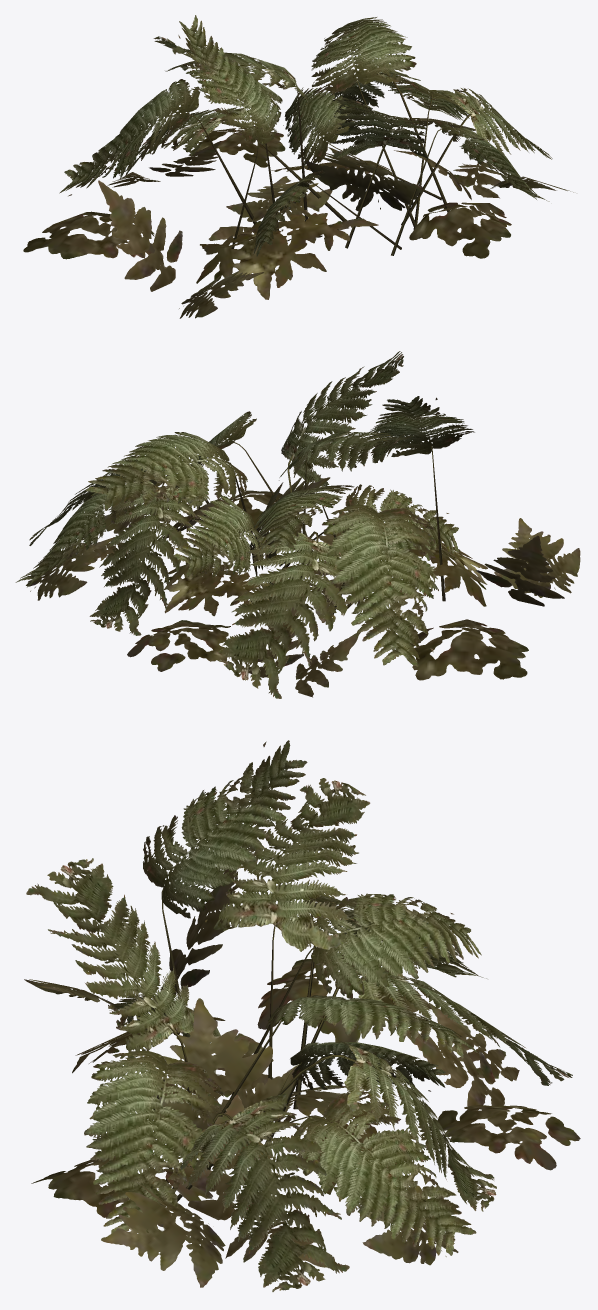
The model's file is fern01.glb.
3 renders of one model, top to bottom at view 1: azimuth 30°, elevation 25°; view 2: azimuth 150°, elevation 25°; view 3: azimuth 270°, elevation 25°, orthographic. The views are drawn at different scales.
Parts seen in each view (by area): view 1: 0_fern01; view 2: 0_fern01; view 3: 0_fern01.
Boxes of the visible parts, x1,y1,x2,y2 form: 0_fern01: [23, 15, 573, 318]; 0_fern01: [15, 351, 580, 698]; 0_fern01: [24, 740, 580, 1291].
Size of the model in its own units: 3.66 by 1.68 by 2.6.
1 material, 1 textured.
